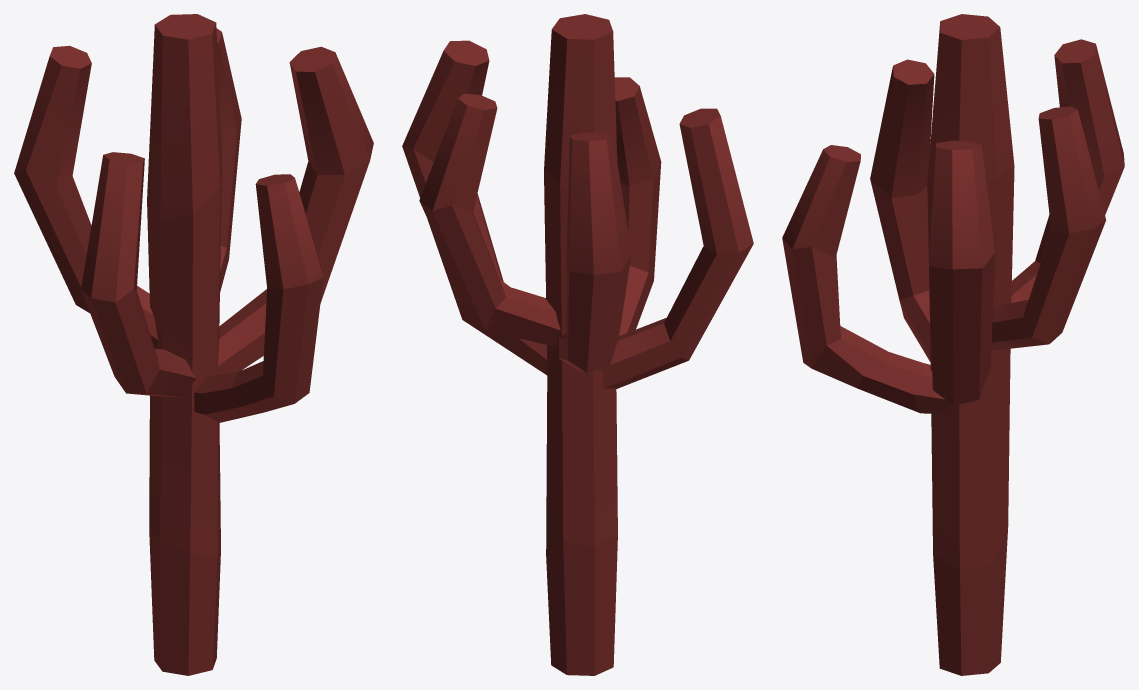
The model's file is Cactus_2_Red.fbx.
3 renders of one model, left to right at view 1: azimuth 30°, elevation 25°; view 2: azimuth 150°, elevation 25°; view 3: azimuth 270°, elevation 25°, orthographic.
Visible parts, largest first — view 1: Cactus_2_Red; view 2: Cactus_2_Red; view 3: Cactus_2_Red.
Boxes of the visible parts, x1,y1,x2,y2 form: Cactus_2_Red: [14, 14, 373, 675]; Cactus_2_Red: [402, 14, 753, 675]; Cactus_2_Red: [782, 14, 1124, 675].
Size of the model in its own units: 134 by 260 by 127.
